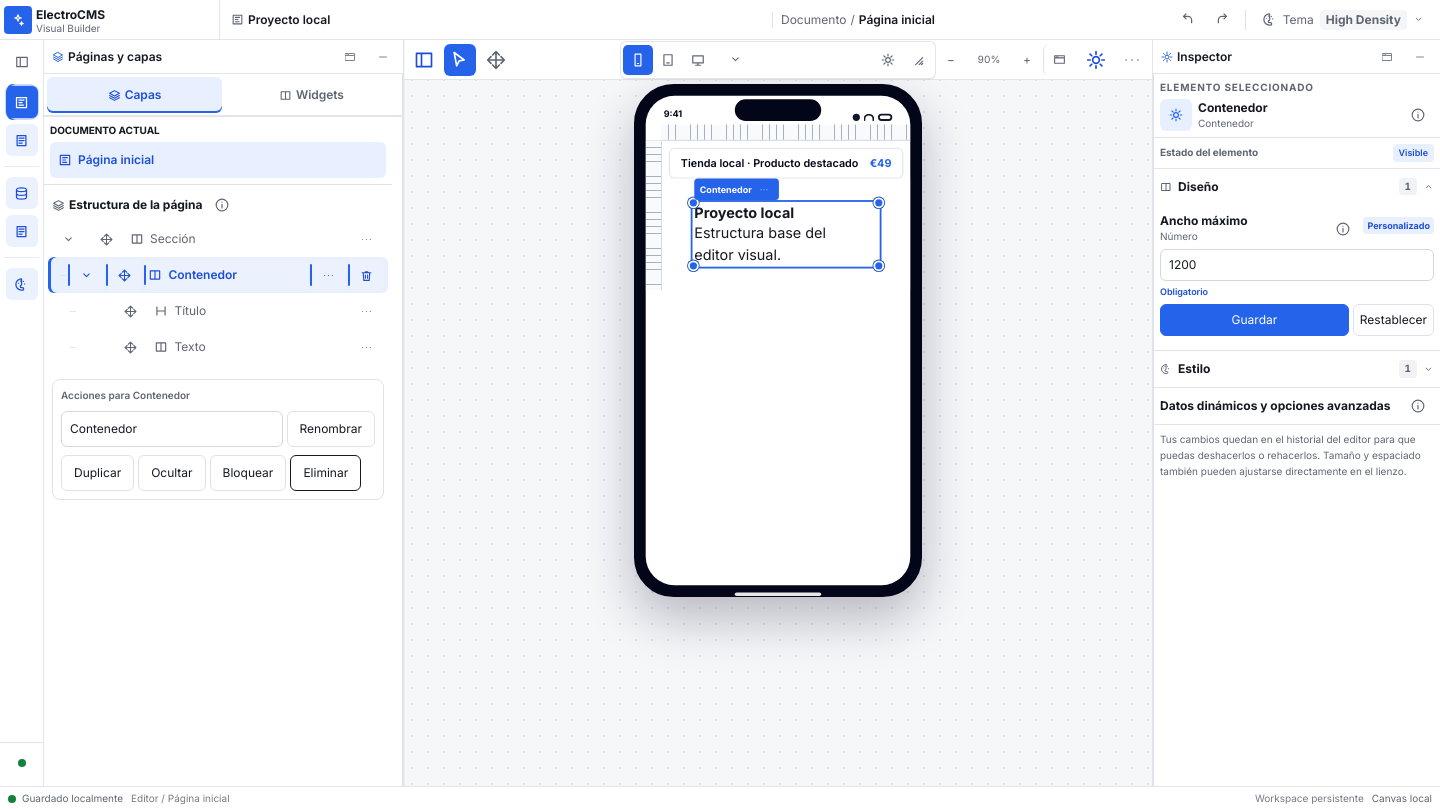
Scenario: M04.5 temas del editor › separa preset visual y modo de color en dos radiogroups accesibles
The width and height of the screenshot is (1440, 810).
Click the button with aria-label "ajustes de apariencia".
click(1343, 20)  # box [1253, 4, 1433, 36]
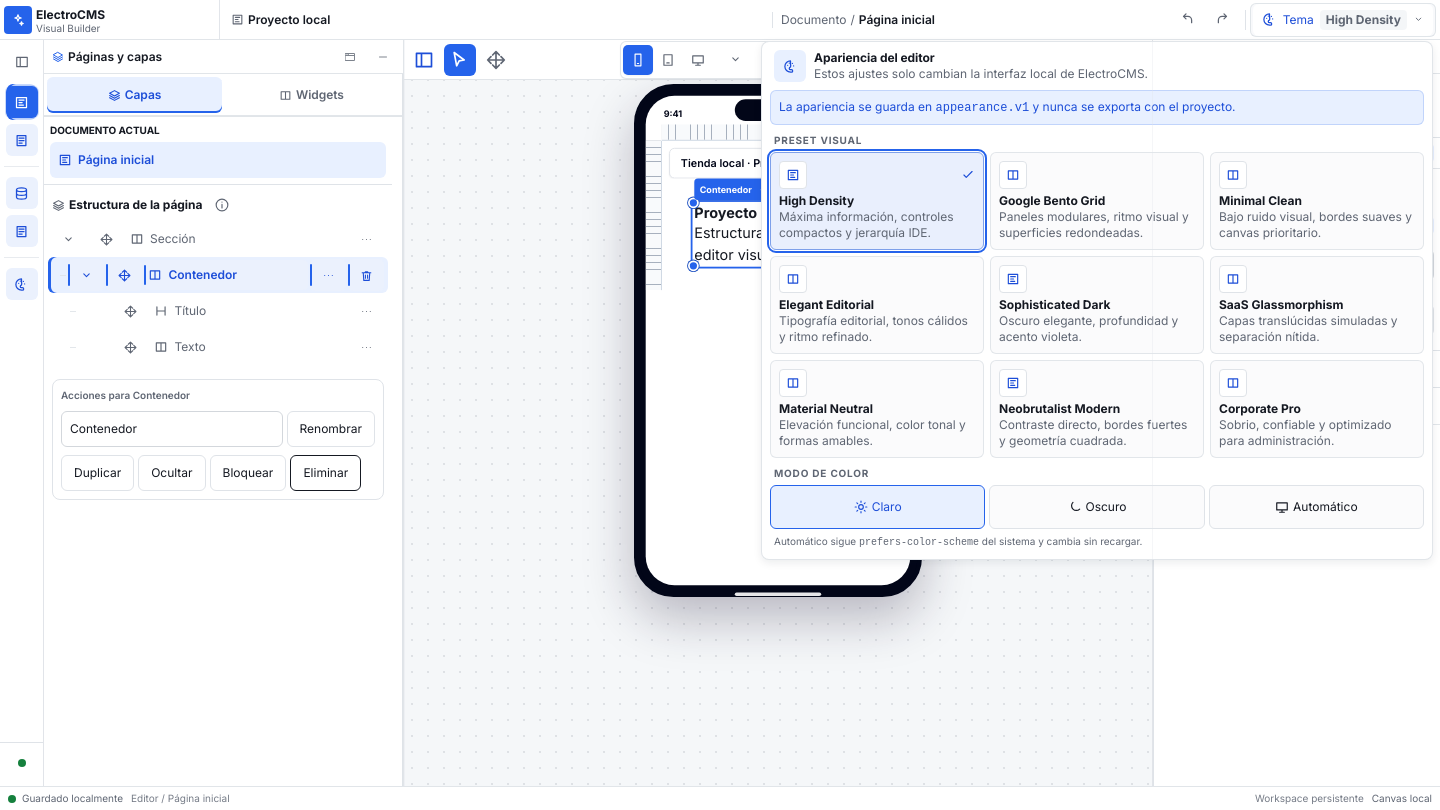
Check: the element named "Preset visual" is shown, box [770, 152, 1424, 458]
